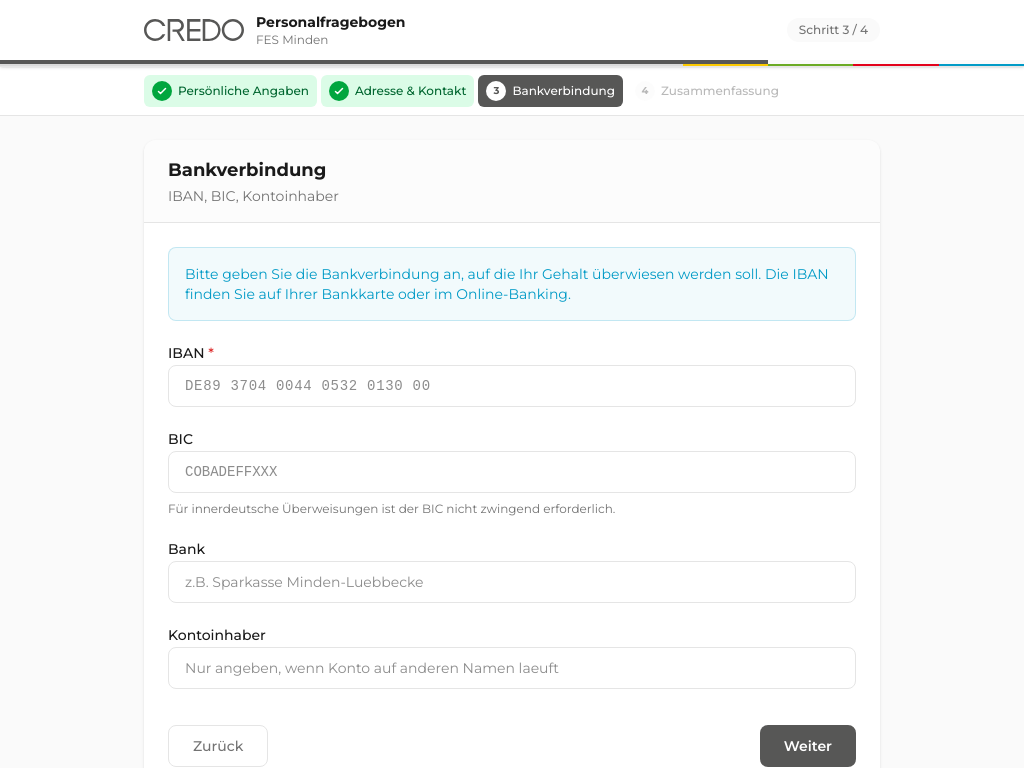
Test: Schrittleiste: kein stiller Verlust von Eingaben › fragt vor dem Sprung, wenn in der Maske etwas Ungespeichertes steht
Type "DE02120300000000202051" into the field with placeholder "DE89 3704 0044 0532 0130 00" at [512, 386], box [168, 365, 856, 407]
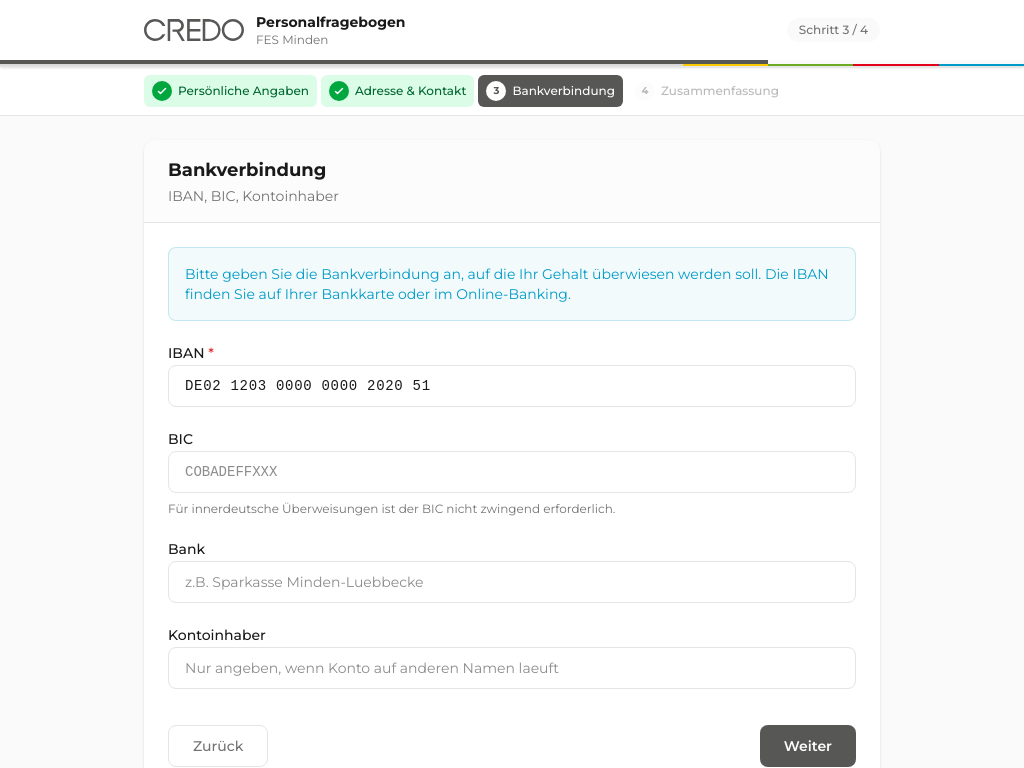
Click the button "Persönliche Angaben" at [230, 91], box [144, 75, 317, 107]
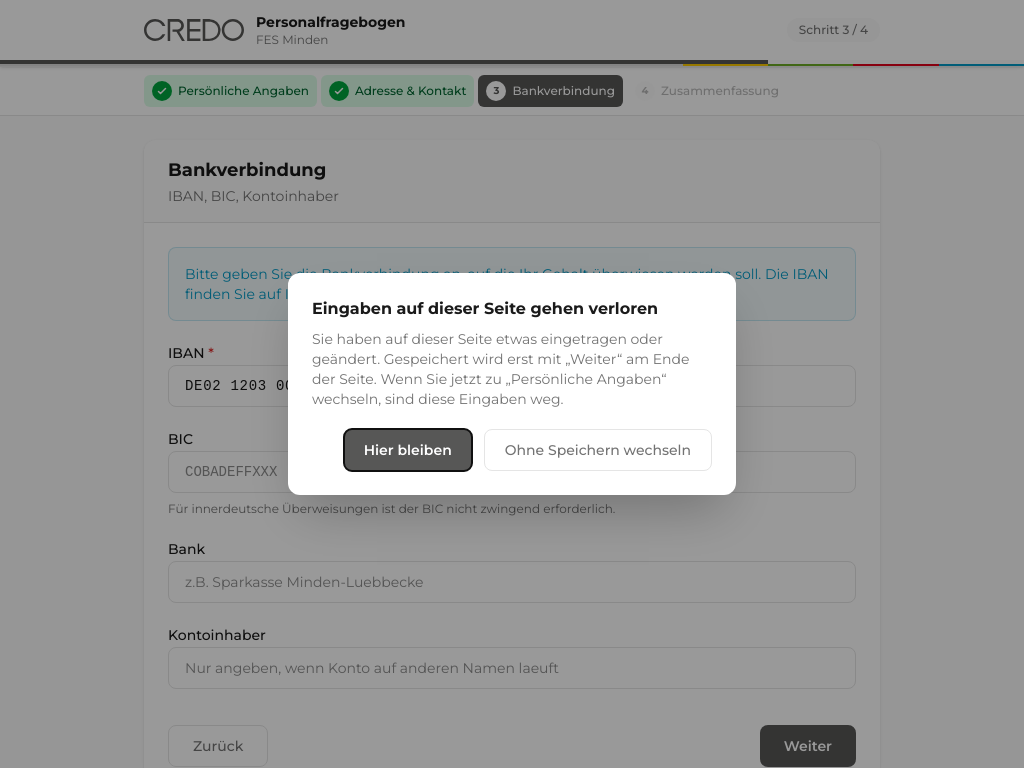
Expected: the text "Bankverbindung" is shown, [512, 83, 615, 99]
Expected: the field is not empty, [168, 365, 856, 407]
Expected: the dialog is shown
